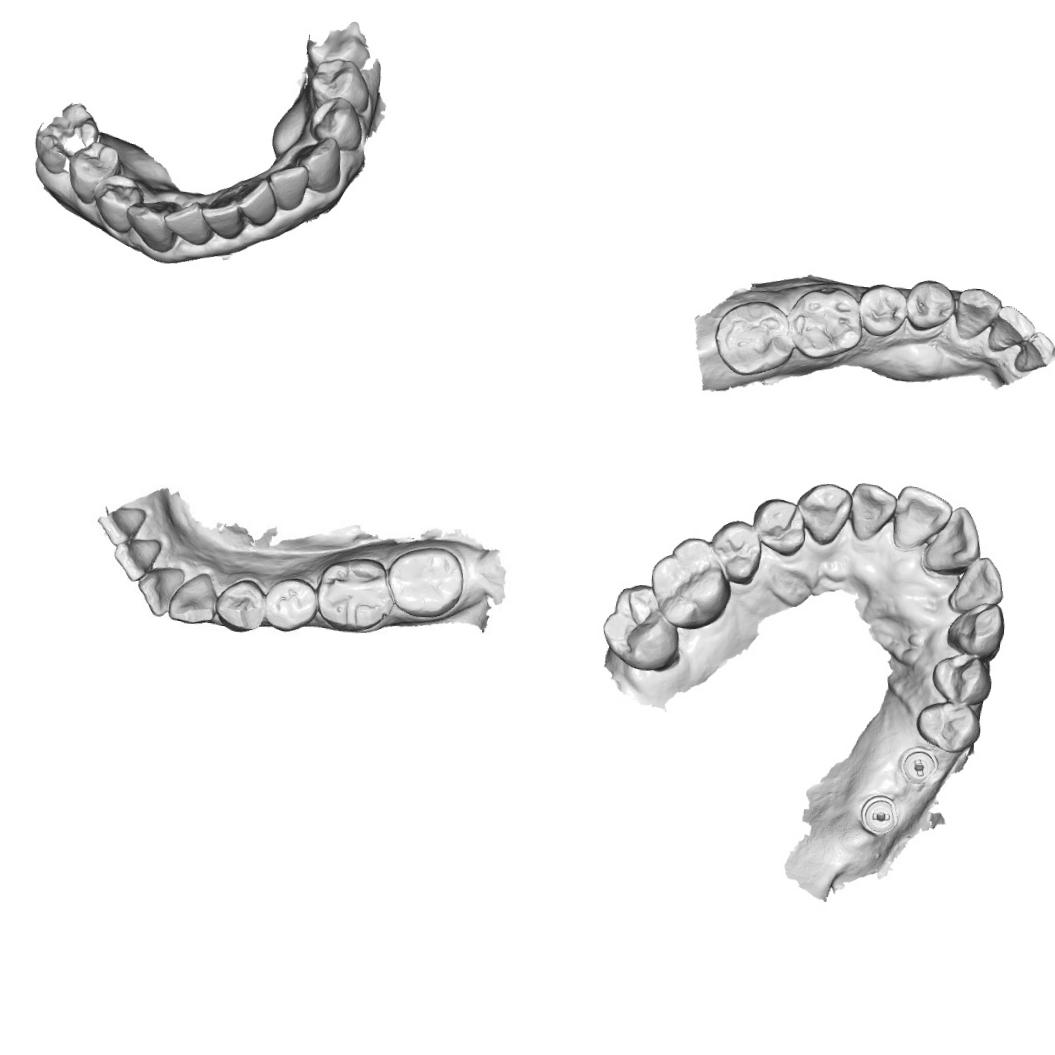canine: (794, 476, 854, 550), (944, 598, 1006, 660), (164, 568, 220, 627), (291, 134, 344, 194), (950, 284, 1002, 345), (123, 195, 177, 253)
implant_minus: (856, 792, 902, 836), (900, 746, 937, 786)
incisor: (920, 503, 985, 575), (889, 482, 954, 550), (944, 552, 1007, 614), (846, 476, 899, 544), (132, 563, 182, 619), (985, 304, 1038, 355), (161, 198, 216, 246), (234, 176, 280, 228), (197, 193, 247, 240), (95, 503, 148, 546), (109, 537, 158, 582), (266, 162, 310, 212), (1011, 327, 1055, 376)
molar: (644, 532, 736, 632), (596, 578, 684, 674), (312, 552, 397, 634), (381, 541, 467, 622), (710, 297, 792, 381), (789, 281, 864, 363), (30, 101, 102, 178), (258, 576, 322, 634)
premolar: (708, 516, 764, 590), (750, 494, 809, 559), (66, 138, 122, 206), (927, 651, 995, 707), (307, 56, 371, 114), (912, 699, 980, 753), (89, 171, 145, 235), (854, 279, 911, 339), (306, 94, 364, 152), (213, 576, 266, 634), (905, 276, 954, 335)
